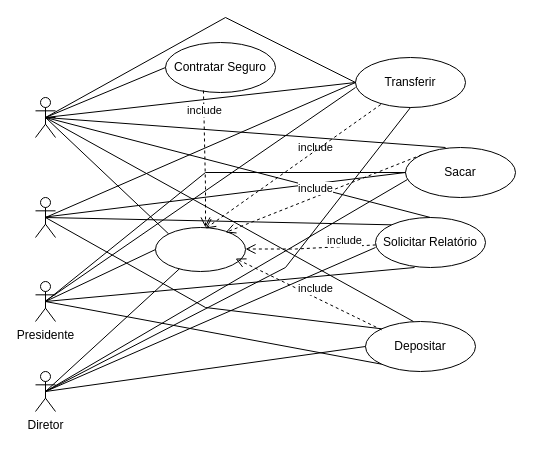
Image size: 533x450. Some labels were removed from this diagram. The shapes that lost their labels are listed below. From the top down, each one's centre as x and y in pixels, then its label:
At point 45,117: "Cliente".
At point 45,217: "Gerente".
At point 200,249: "Logar".
